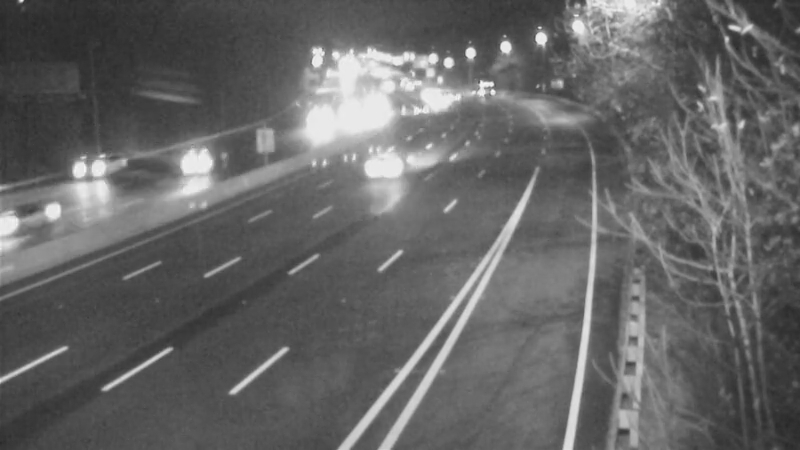vehicle: (344, 124, 424, 204), (44, 128, 124, 208), (158, 119, 238, 199), (1, 183, 73, 263), (465, 63, 515, 113), (400, 70, 450, 120), (426, 69, 476, 119), (406, 71, 456, 121), (393, 84, 443, 134), (296, 96, 346, 146), (324, 92, 374, 142)
